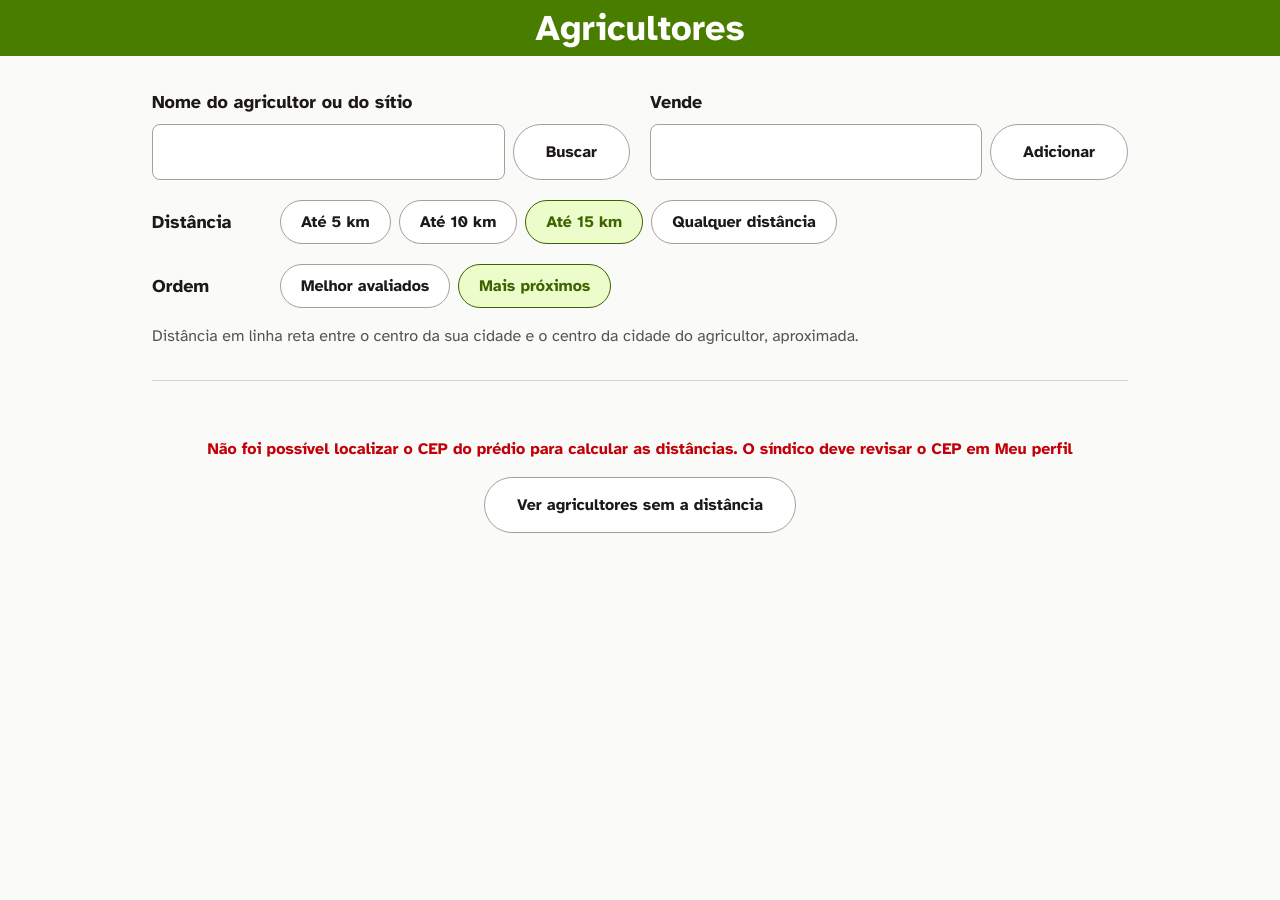
Test case: NearbyFarmers, distance and order › explains a building without a point on the map and searches without distance
Click the button "Ver agricultores sem a distância" at (640, 505), box [484,477,796,533]
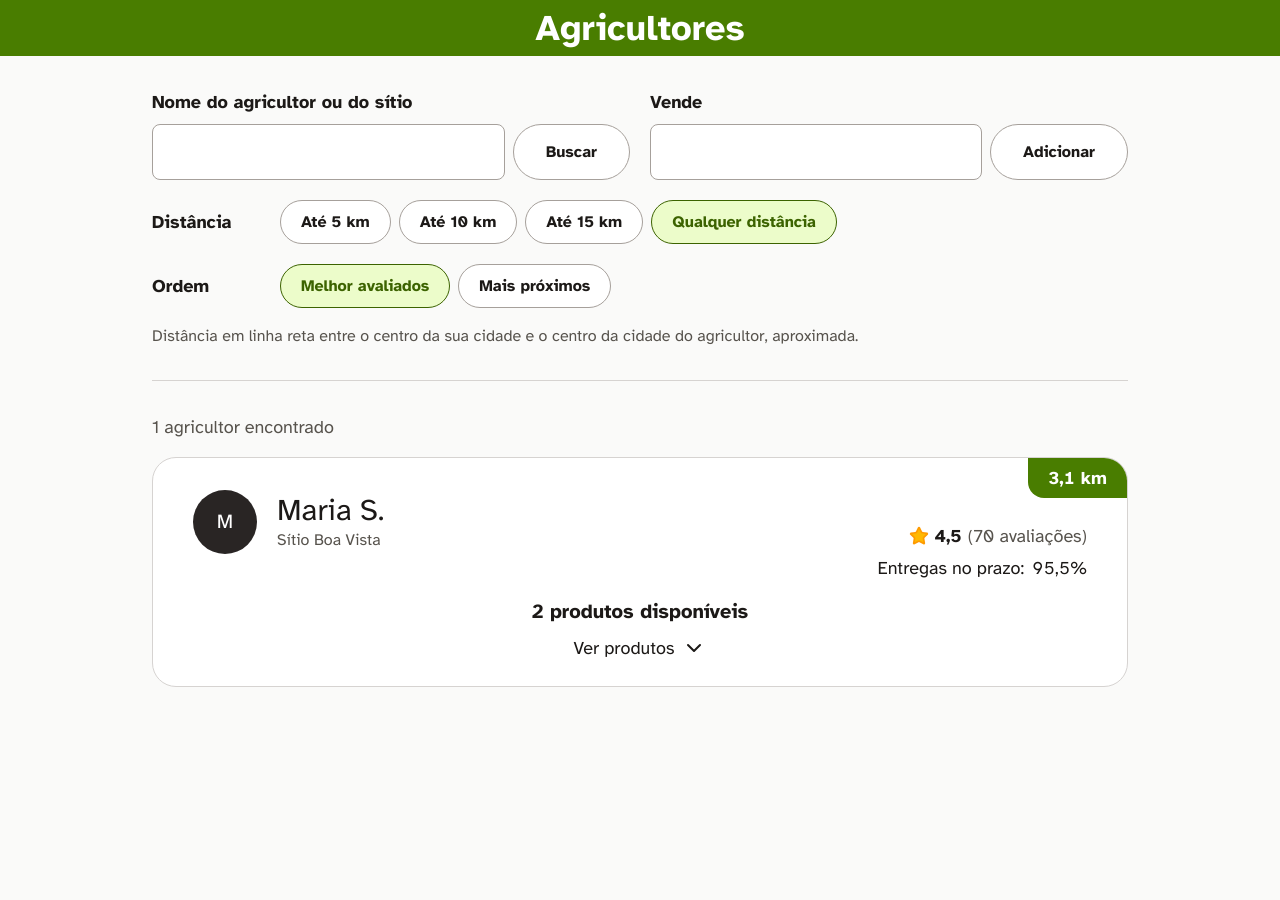
expect the list item "Maria S." is shown: met, box [152,457,1128,687]
expect the message is gone: met
